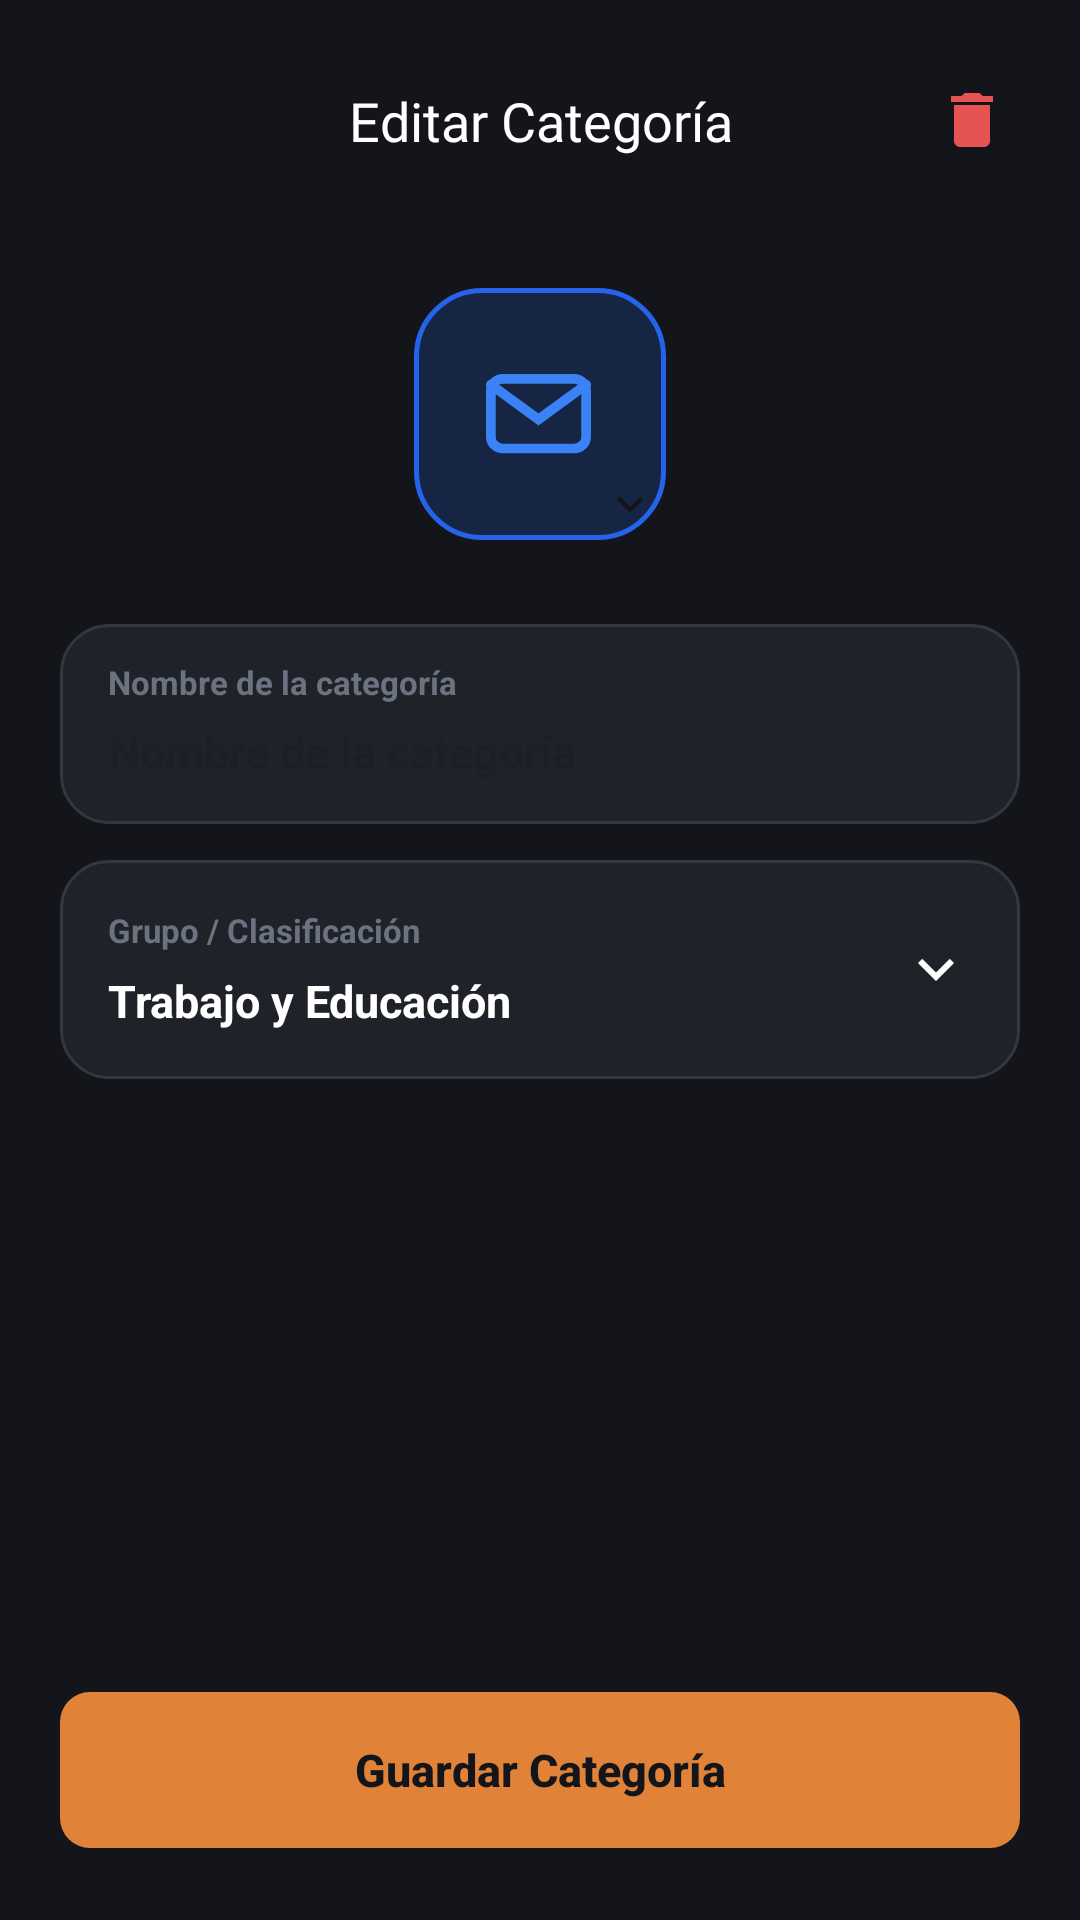

Where icons sit on this 1080x1920 app screen, as bbox=(x1, y1, x2, y2):
Eliminar categoría: bbox=(951, 93, 993, 147)
Ícono de la categoría: bbox=(486, 374, 591, 454)
